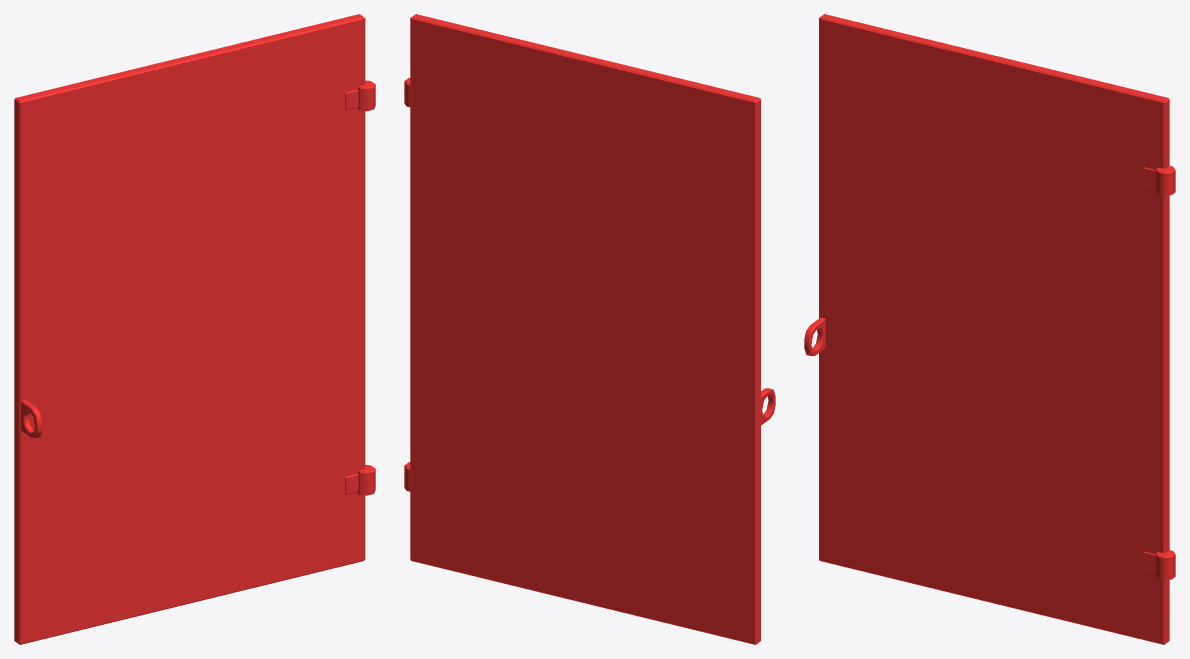
The model's file is Garage_Door_Left_01_001.fbx.
3 views of the same model, side by side, from view 1: azimuth 30°, elevation 25°; view 2: azimuth 150°, elevation 25°; view 3: azimuth 330°, elevation 25° (orthographic).
Parts seen in each view (by area): view 1: Garage_Door_Right_01_001; view 2: Garage_Door_Right_01_001; view 3: Garage_Door_Right_01_001.
Boxes of the visible parts, <box> form: Garage_Door_Right_01_001: <box>14,14,375,644</box>; Garage_Door_Right_01_001: <box>404,14,775,644</box>; Garage_Door_Right_01_001: <box>804,14,1175,644</box>.
Size of the model in its own units: 143 by 210 by 15.22.
